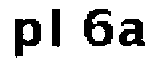6: (81, 8, 114, 49)
a: (119, 17, 146, 48)
l: (50, 6, 66, 49)
p: (11, 16, 40, 60)
